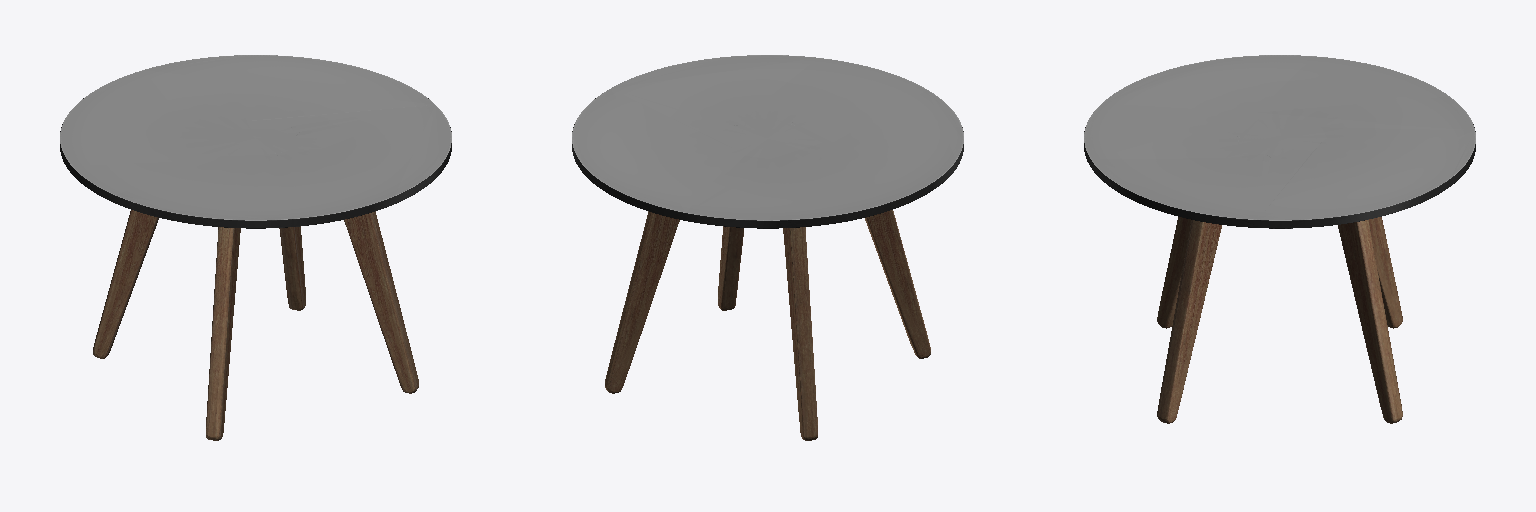
3 views of the same model, side by side, from view 1: azimuth 30°, elevation 25°; view 2: azimuth 150°, elevation 25°; view 3: azimuth 270°, elevation 25° (orthographic).
Parts seen in each view (by area): view 1: solid_003, solid_002, solid_001; view 2: solid_003, solid_002, solid_001; view 3: solid_003, solid_002, solid_001.
Part boxes in pixels (left/top/right/bottom): solid_003: left=60, top=55, right=451, bottom=220; solid_002: left=93, top=210, right=418, bottom=440; solid_001: left=60, top=98, right=451, bottom=228; solid_003: left=572, top=55, right=963, bottom=220; solid_002: left=605, top=210, right=930, bottom=440; solid_001: left=572, top=98, right=963, bottom=228; solid_003: left=1084, top=55, right=1475, bottom=228; solid_002: left=1157, top=217, right=1402, bottom=423; solid_001: left=1084, top=124, right=1475, bottom=228.
Bounding box in the file's own units: 1.72 × 1.14 × 1.72.
1 materials, 1 textured.